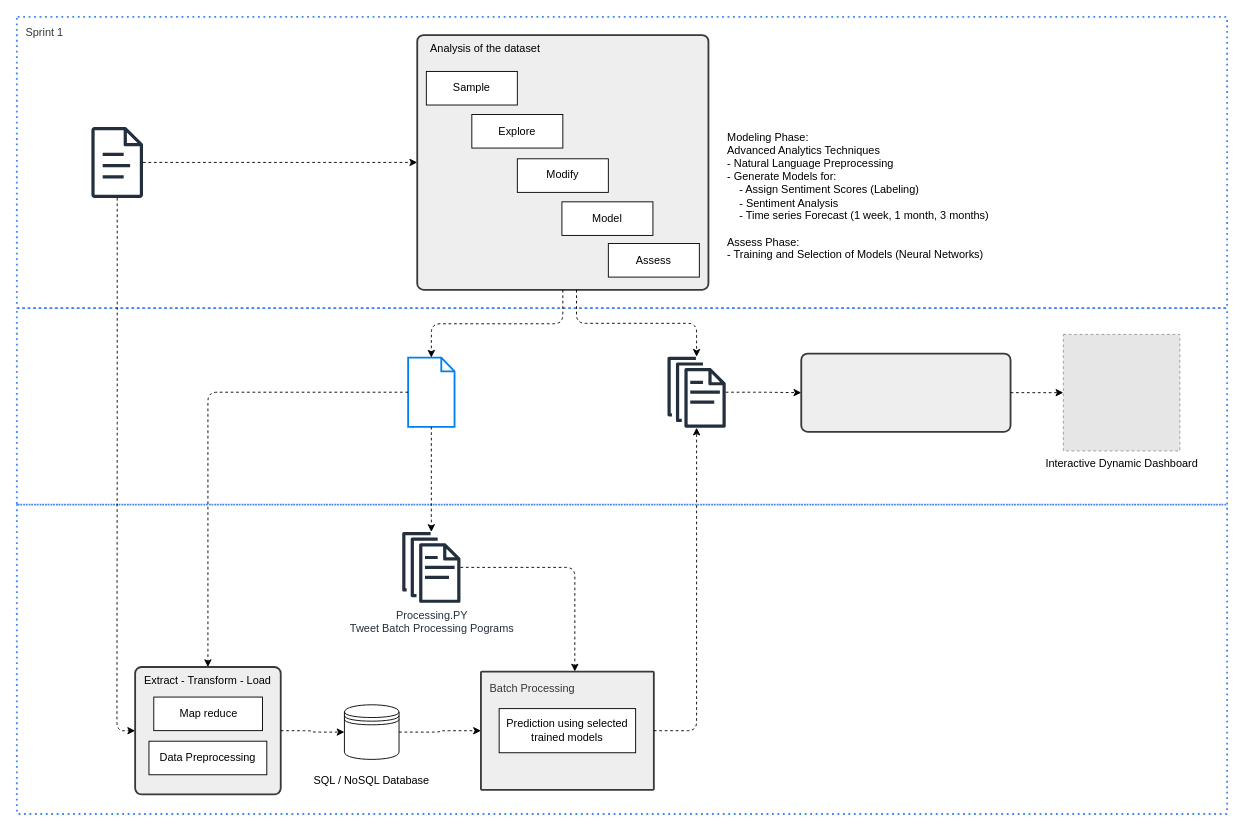
This 1243x830 diagram has some shape labels left out. Grey dashed boxes stand in for pictures. The box of each missing label's shape, as (x1, y1, x2, y2) in pixels:
Design of the Presentation Strategy and Visualization Tool: (800, 352, 1011, 432)
Jupyter Notebook: (407, 356, 455, 427)
ProjectTweets.CSV: (91, 126, 143, 197)
Sprint 2: (15, 307, 1228, 505)
Sprint 3: (15, 503, 1228, 814)
TweetsSummary.CSV Processed Sumary of Teets by week: (667, 356, 725, 427)
